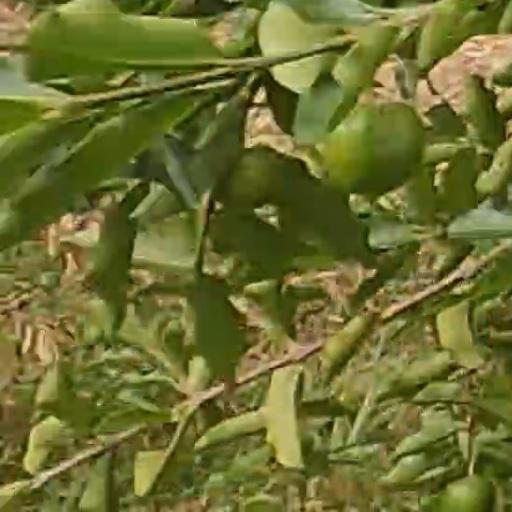acerola: (328, 107, 421, 193), (441, 477, 500, 512)
